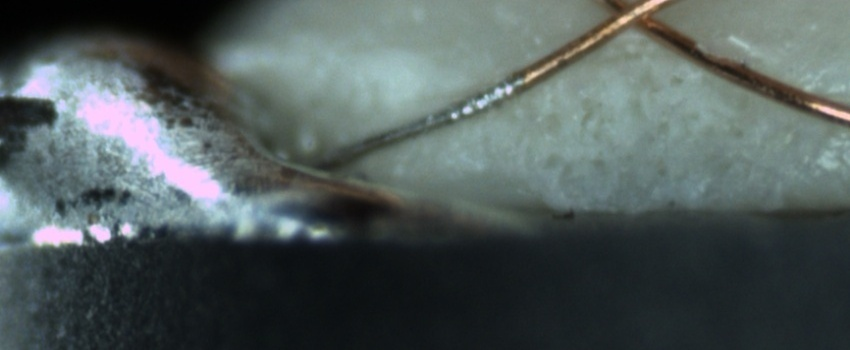CL: (591, 0, 674, 41)
TS: (293, 71, 527, 166)
TTCW: (320, 54, 552, 172)
